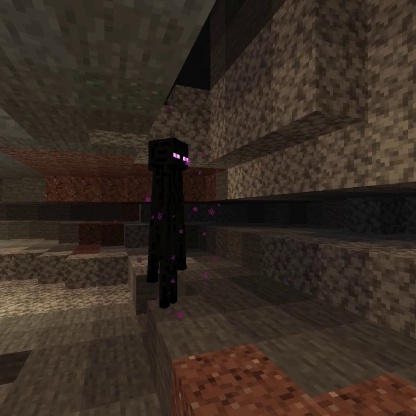enderman: (143, 134, 193, 311)
